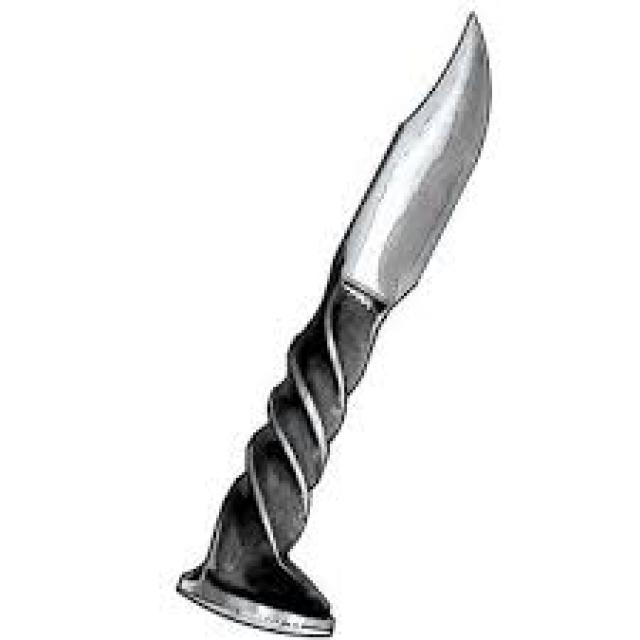knives: (170, 6, 498, 637)
